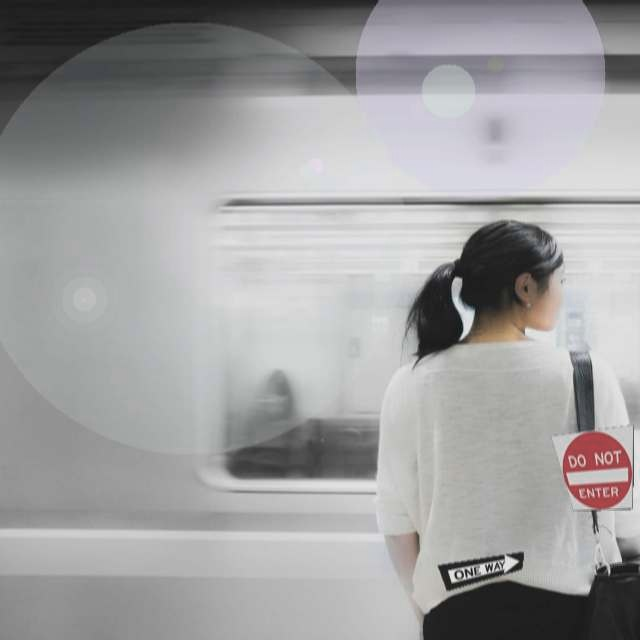DO_NOT_ENTER: (550, 424, 634, 511)
ONE_WAY_ right: (437, 551, 524, 591)
